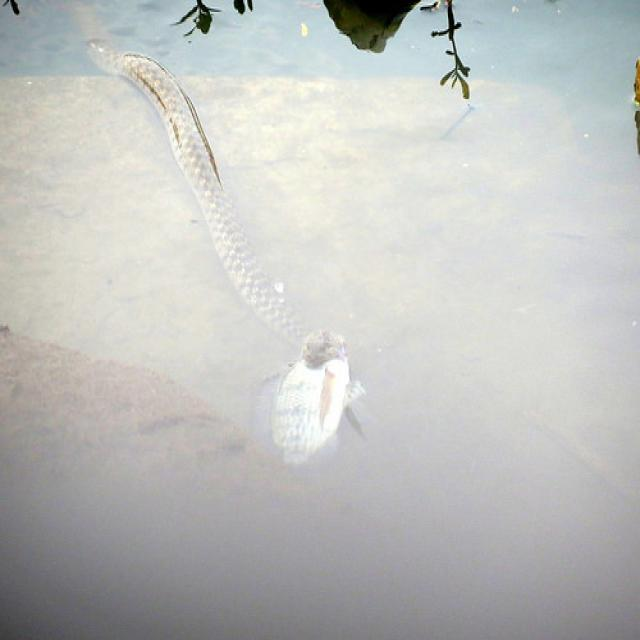Snake: (84, 36, 368, 464)
